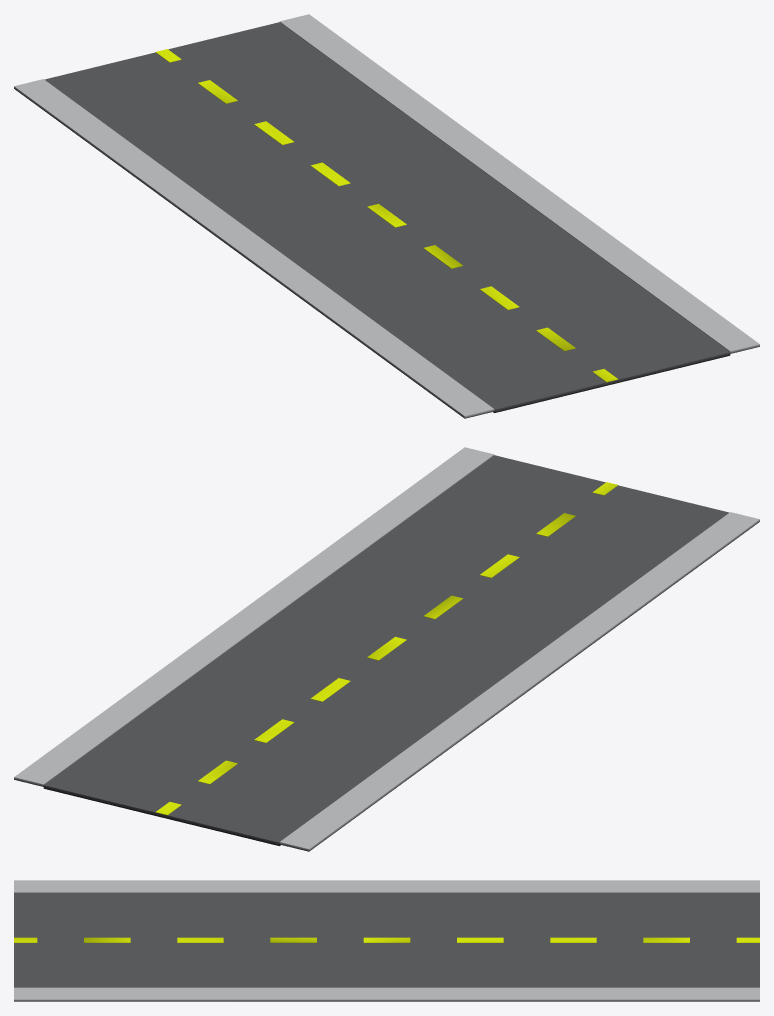
Rendered from road.glb.
The picture shows the model from 3 angles, top to bottom: view 1: azimuth 30°, elevation 25°; view 2: azimuth 150°, elevation 25°; view 3: azimuth 270°, elevation 25°; orthographic projection. The views are drawn at different scales.
Parts seen in each view (by area): view 1: Cube.001, Cube, Cube.006; view 2: Cube.001, Cube, Cube.006; view 3: Cube.001, Cube, Cube.006.
Boxes of the visible parts, x1,y1,x2,y2 form: Cube.001: (44,22,730,412); Cube: (14,14,759,418); Cube.006: (155,49,618,382); Cube.001: (43,455,729,845); Cube: (14,447,759,851); Cube.006: (155,482,617,815); Cube.001: (14,893,759,987); Cube: (14,880,759,1001); Cube.006: (14,937,759,942).
Bounding box in the file's own units: 12.1 × 0.1652 × 32.
Materials: 1 (1 with a texture image).
